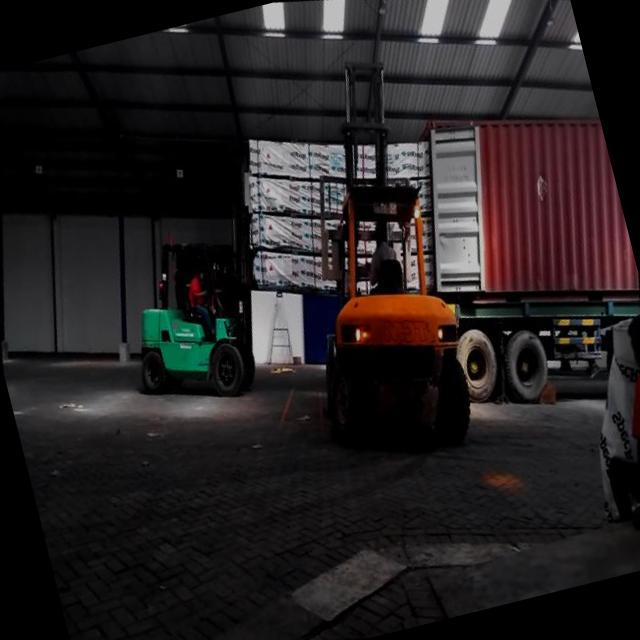driver: (170, 262, 227, 344), (354, 220, 411, 294)
forklift: (261, 142, 523, 479), (94, 185, 296, 428)
